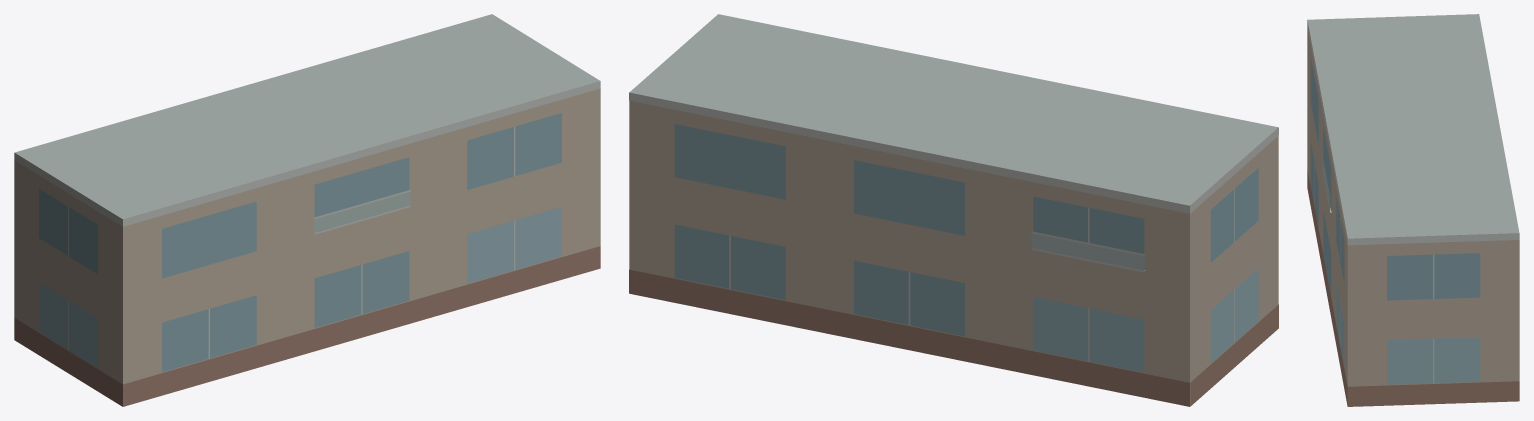
The model's file is residential-cca964cc-b4b0-49ac-acdf-c73fbaf59efe.glb.
3 views of the same model, side by side, from view 1: azimuth 30°, elevation 25°; view 2: azimuth 150°, elevation 25°; view 3: azimuth 270°, elevation 25° (orthographic). The views are drawn at different scales.
Parts seen in each view (by area): view 1: residential-cca964cc-b4b0-49ac-acdf-c73fbaf59efe.tmp; view 2: residential-cca964cc-b4b0-49ac-acdf-c73fbaf59efe.tmp; view 3: residential-cca964cc-b4b0-49ac-acdf-c73fbaf59efe.tmp.
Part boxes in pixels (<box>): residential-cca964cc-b4b0-49ac-acdf-c73fbaf59efe.tmp: <box>14,14,600,406</box>; residential-cca964cc-b4b0-49ac-acdf-c73fbaf59efe.tmp: <box>629,14,1278,406</box>; residential-cca964cc-b4b0-49ac-acdf-c73fbaf59efe.tmp: <box>1307,14,1519,406</box>.
Size of the model in its own units: 17.48 by 6.1 by 6.98.
